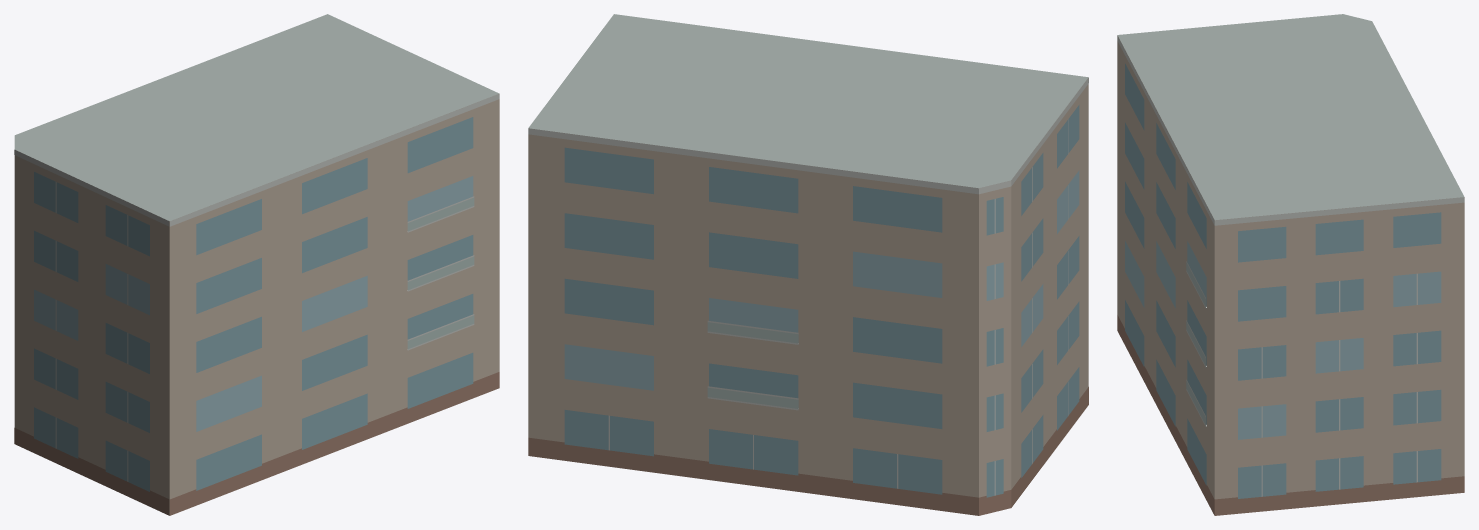
File: survey-upis-32491231.glb
3 renders of one model, left to right at view 1: azimuth 30°, elevation 25°; view 2: azimuth 150°, elevation 25°; view 3: azimuth 270°, elevation 25°, orthographic. The views are drawn at different scales.
Visible parts, largest first — view 1: survey-upis-32491231.tmp; view 2: survey-upis-32491231.tmp; view 3: survey-upis-32491231.tmp.
Boxes of the visible parts, x1,y1,x2,y2 form: survey-upis-32491231.tmp: (14,14,499,515); survey-upis-32491231.tmp: (528,14,1088,515); survey-upis-32491231.tmp: (1117,14,1464,515).
Bounding box in the file's own units: 19.61 × 13.1 × 13.96.
